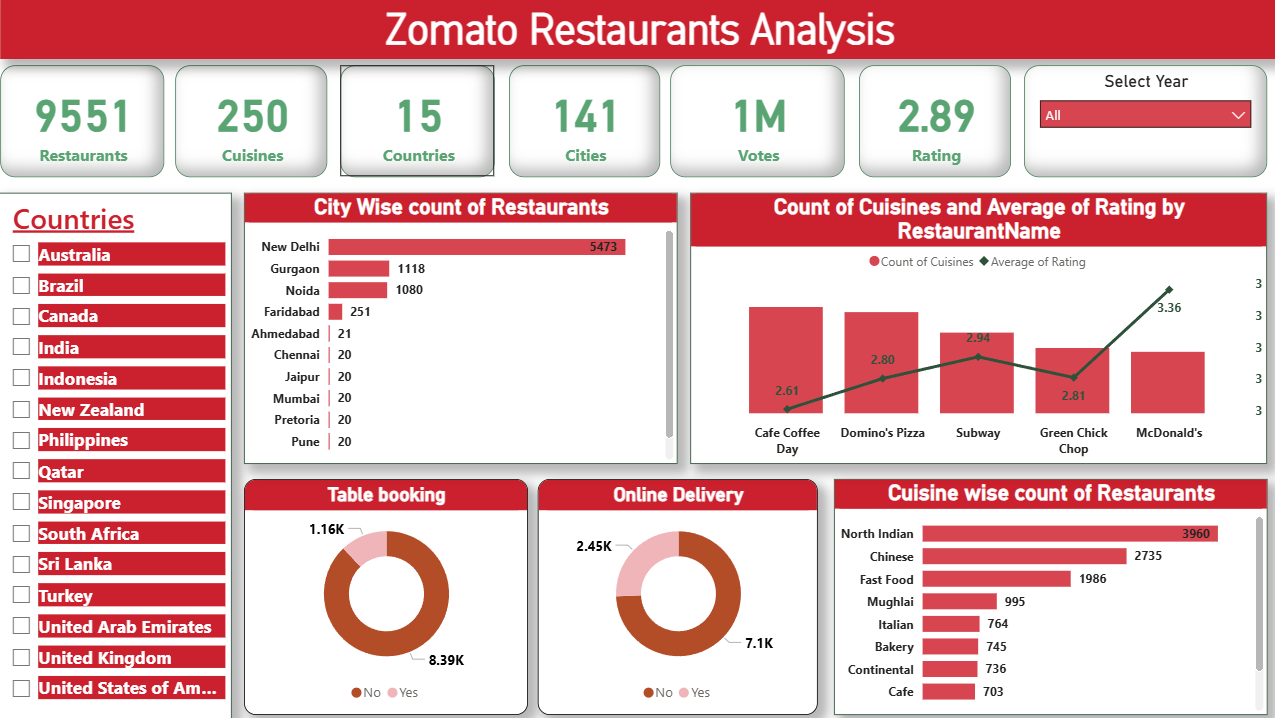

This screenshot's page, from the dashboard's own definition file:
{"tool":"powerbi","page":{"name":"Dashboard","canvas":[1280,720],"ordinal":0},"visuals":[{"type":"slicer","fields":{"Values":["Sheet2.country name"]},"box":[0,194.2,232.6,526.7],"z":0},{"type":"card","fields":{"Values":["CountNonNull(Sheet2.countryID)"]},"box":[340.7,66.3,154.7,111.6],"z":2000},{"type":"card","fields":{"Values":["Count(Sheet1.Cuisines)"]},"box":[176.7,66.3,152.3,111.6],"z":3000},{"type":"card","fields":{"Values":["Count(Sheet1.RestaurantID)"]},"box":[1.2,66.3,164,111.6],"z":4000},{"type":"card","fields":{"Values":["Count(Sheet1.City)"]},"box":[510.5,66.3,151.2,111.6],"z":5000},{"type":"textbox","box":[1.5,0,1279.2,60.3],"z":6000},{"type":"donutChart","title":"Table booking ","fields":{"Category":["cuisines copy.Has_Table_booking"],"Y":["CountNonNull(cuisines copy.Has_Table_booking)"]},"box":[245.3,480.2,283.7,236],"z":7000},{"type":"donutChart","title":"Online Delivery","fields":{"Category":["cuisines copy.Has_Online_delivery"],"Y":["CountNonNull(cuisines copy.Has_Online_delivery)"]},"box":[538.4,480.2,280.2,236],"z":8000},{"type":"clusteredBarChart","title":"Cuisine wise count of Restaurants","fields":{"Category":["Sheet1.Column"],"Y":["CountNonNull(Sheet1.Cuisines)"]},"box":[834.9,480.2,433.7,236],"z":9000},{"type":"clusteredBarChart","title":"City Wise count of Restaurants","fields":{"Category":["cuisines copy.City"],"Y":["CountNonNull(cuisines copy.RestaurantID)"]},"box":[245.3,194.2,433.7,270.9],"z":10000},{"type":"lineStackedColumnComboChart","fields":{"Category":["cuisines copy.RestaurantName"],"Y":["CountNonNull(cuisines copy.Cuisines)"],"Y2":["Avg(cuisines copy.Rating)"]},"box":[691.9,194.2,576.7,270.9],"z":11000},{"type":"slicer","title":"Select Year","fields":{"Values":["cuisines copy.new datekey.Variation.Date Hierarchy.Year","cuisines copy.new datekey.Variation.Date Hierarchy.Quarter","cuisines copy.new datekey.Variation.Date Hierarchy.Month","cuisines copy.new datekey.Variation.Date Hierarchy.Day"]},"box":[1025.6,66.3,243,111.6],"z":13000},{"type":"card","fields":{"Values":["Sum(cuisines copy.Votes)"]},"box":[670.9,66.3,174.4,111.6],"z":14000},{"type":"card","fields":{"Values":["Avg(cuisines copy.Rating)"]},"box":[860.5,66.3,152.3,111.6],"z":15000}]}

Visuals, with their boxes in screenshot pixels (x1, y1, x2, y2), scaled from the page's 1280x720 canvas onto the 1275x718 screenshot:
slicer - Sheet2.country name: locate(0, 194, 232, 717)
card - CountNonNull(Sheet2.countryID): locate(339, 66, 493, 177)
card - Count(Sheet1.Cuisines): locate(176, 66, 328, 177)
card - Count(Sheet1.RestaurantID): locate(1, 66, 165, 177)
card - Count(Sheet1.City): locate(509, 66, 659, 177)
textbox: locate(1, 0, 1274, 60)
"Table booking " donutChart: locate(244, 479, 527, 714)
"Online Delivery" donutChart: locate(536, 479, 815, 714)
"Cuisine wise count of Restaurants" clusteredBarChart: locate(832, 479, 1264, 714)
"City Wise count of Restaurants" clusteredBarChart: locate(244, 194, 676, 464)
lineStackedColumnComboChart - cuisines copy.RestaurantName x CountNonNull(cuisines copy.Cuisines): locate(689, 194, 1264, 464)
"Select Year" slicer: locate(1022, 66, 1264, 177)
card - Sum(cuisines copy.Votes): locate(668, 66, 842, 177)
card - Avg(cuisines copy.Rating): locate(857, 66, 1009, 177)
